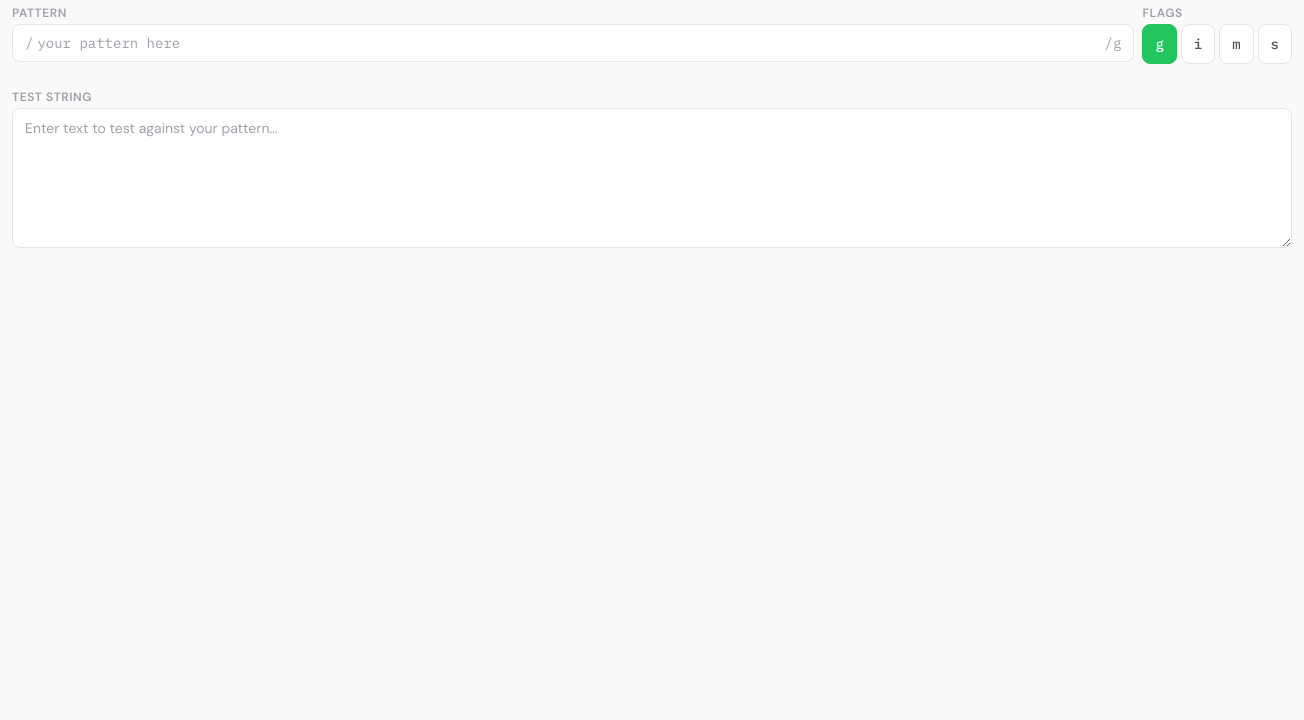
Test: RegexTesterTool › shows multiple match details when global flag is active
Note: Ensure 'g' is already there by default (from our implementation)
Type "test" into the field with placeholder "your pattern here" at (569, 43), box [37,25,1101,61]
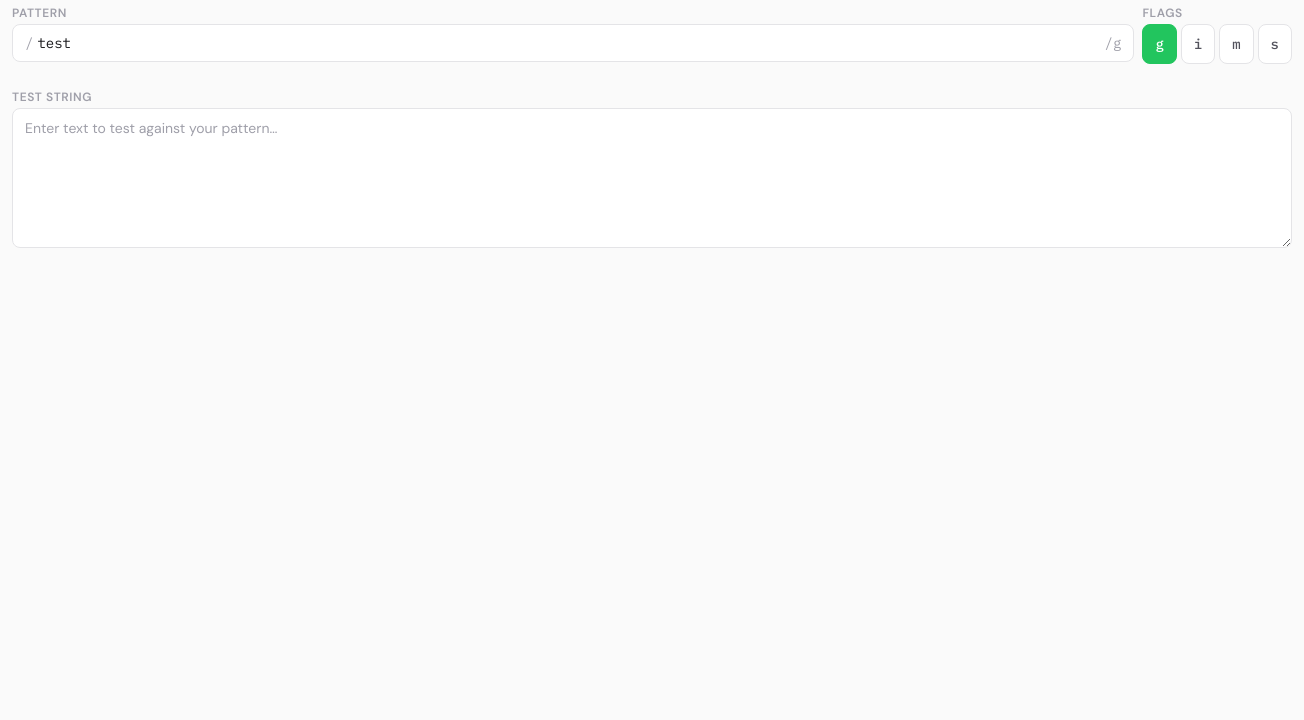
Type "test test" into the text box with placeholder "Enter text to test against your pattern…" at (652, 178), box [12,108,1292,248]
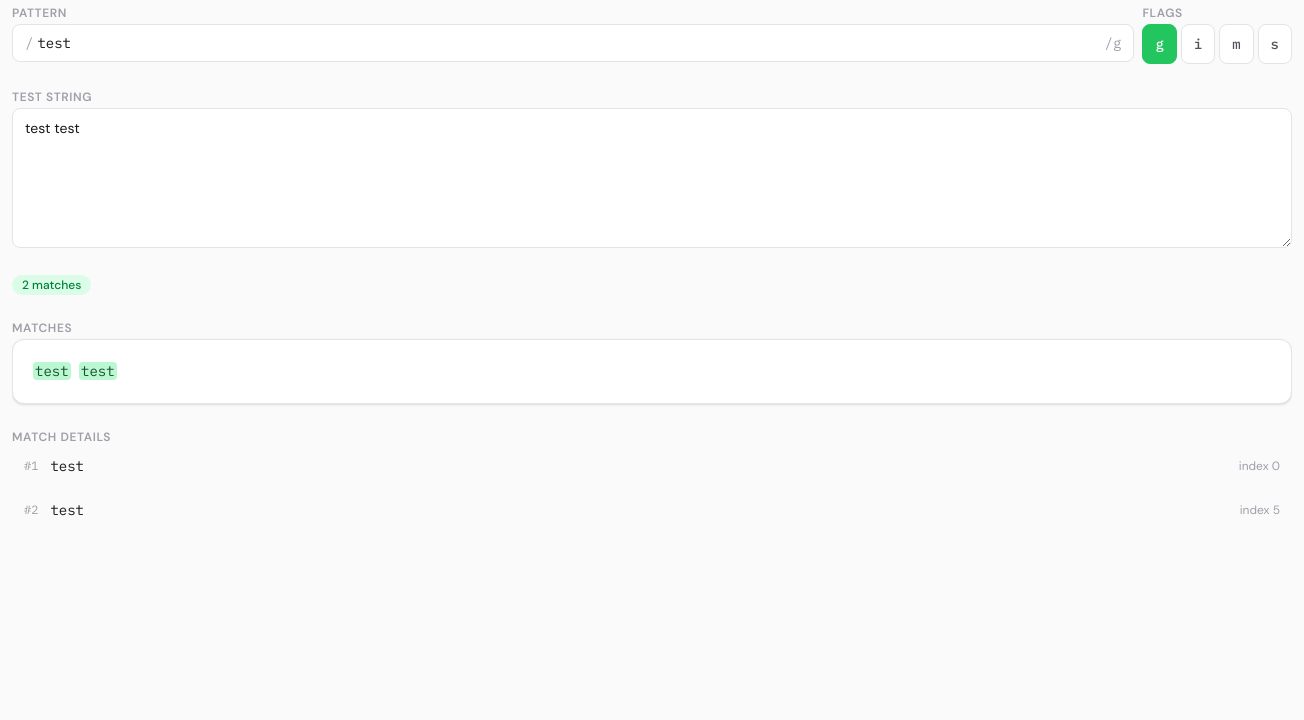
Now the text "2 matches" is shown, box [12,275,91,295]
Now the text "#1" is shown, box [24,458,38,474]
Now the text "#2" is shown, box [24,502,38,518]
